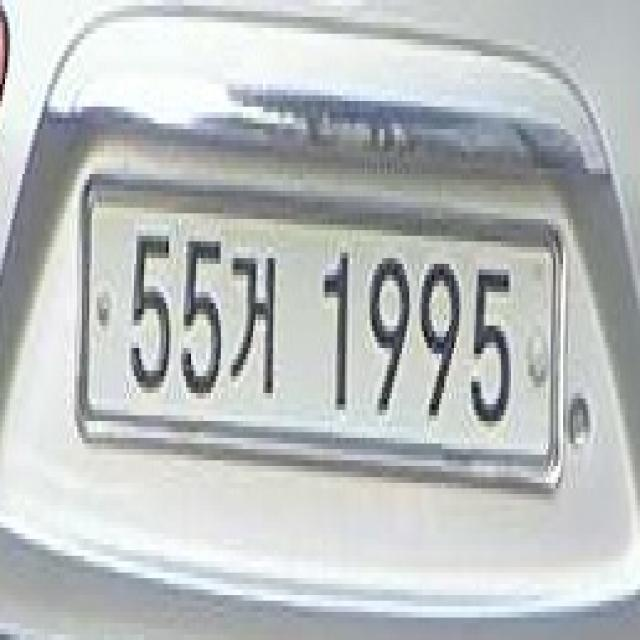1: (316, 238, 358, 416)
5: (468, 242, 516, 432), (176, 221, 225, 397), (126, 225, 173, 394)
9: (363, 242, 413, 422), (416, 239, 464, 426)
geo: (230, 228, 280, 404)
license_plate: (66, 162, 575, 519)
